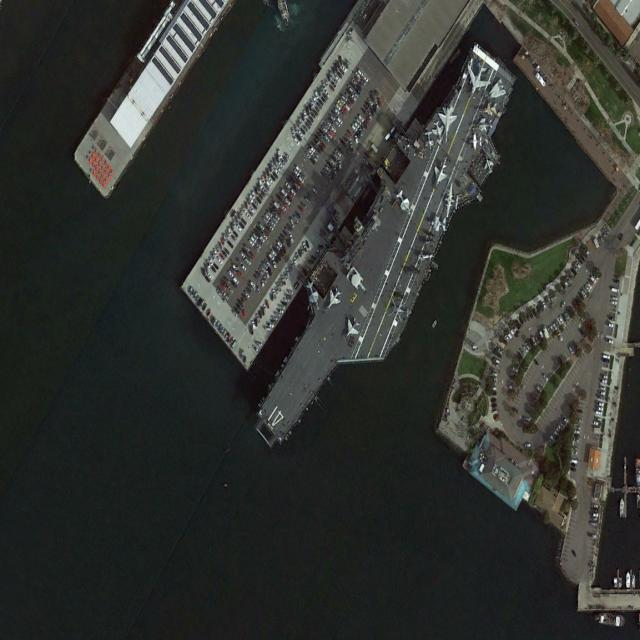Aircraft Carrier: (234, 16, 536, 494)
